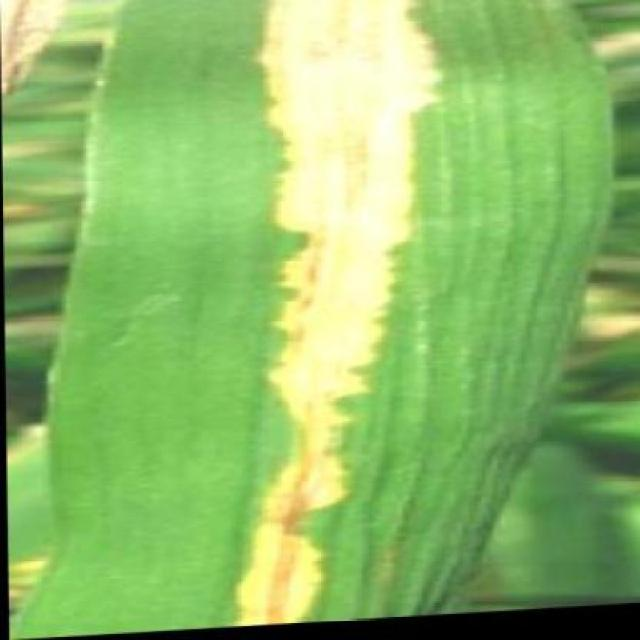Bacterial_Leaf_Blight: (1, 0, 94, 106)
Brown_Spot: (218, 0, 456, 625)
